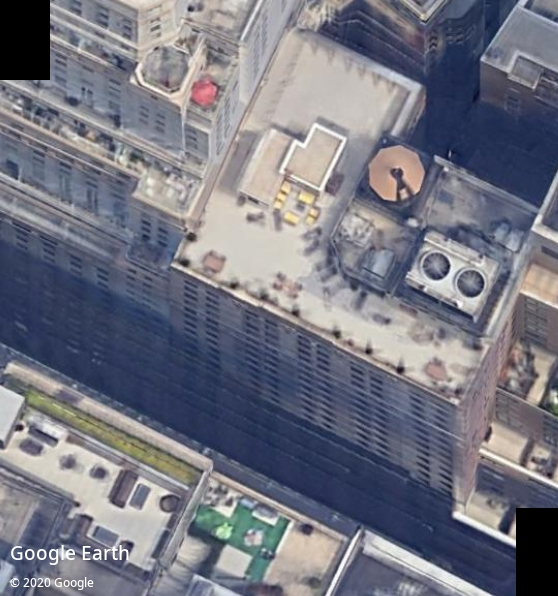Vent: (457, 268, 486, 297), (423, 252, 451, 281)
